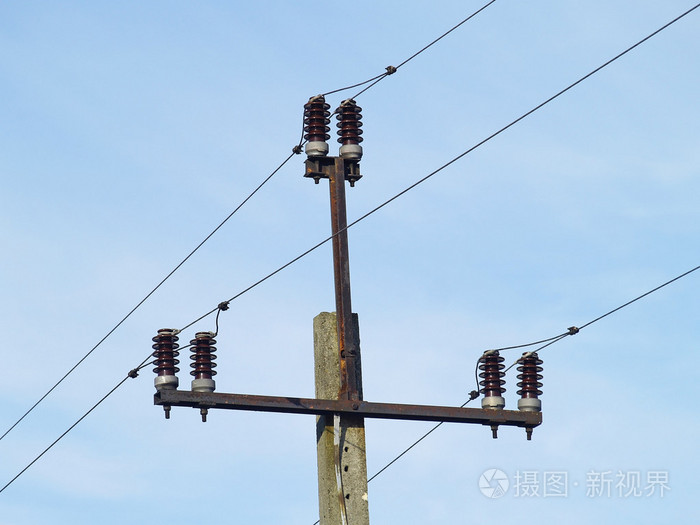insulator: (188, 338, 220, 379), (151, 331, 179, 377), (334, 103, 365, 144), (303, 100, 332, 143), (477, 354, 505, 397), (516, 357, 546, 395)
